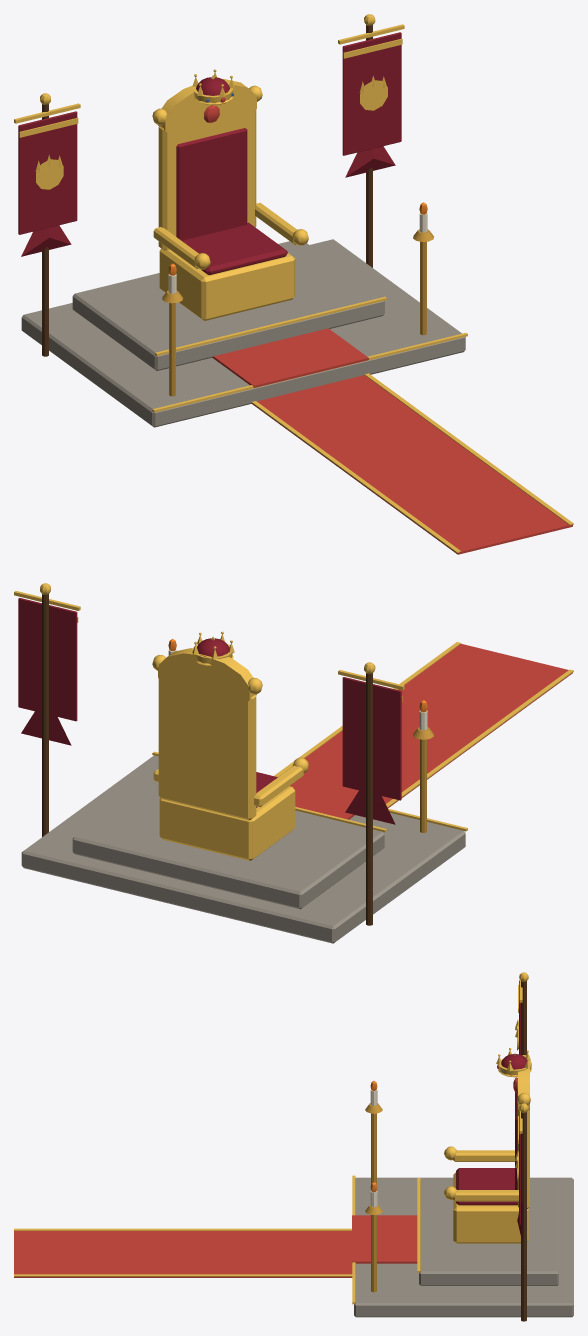
Rendered from PR_Intro_Taht.fbx.
3 views of the same model, one above another, from view 1: azimuth 30°, elevation 25°; view 2: azimuth 150°, elevation 25°; view 3: azimuth 270°, elevation 25° (orthographic). The views are drawn at different scales.
Parts seen in each view (by area): view 1: PR_Intro_Taht; view 2: PR_Intro_Taht; view 3: PR_Intro_Taht.
Part boxes in pixels (<box>): PR_Intro_Taht: <box>14,14,573,554</box>; PR_Intro_Taht: <box>14,583,573,943</box>; PR_Intro_Taht: <box>14,972,573,1321</box>.
Bounding box in the file's own units: 3.72 × 2.39 × 5.6.
